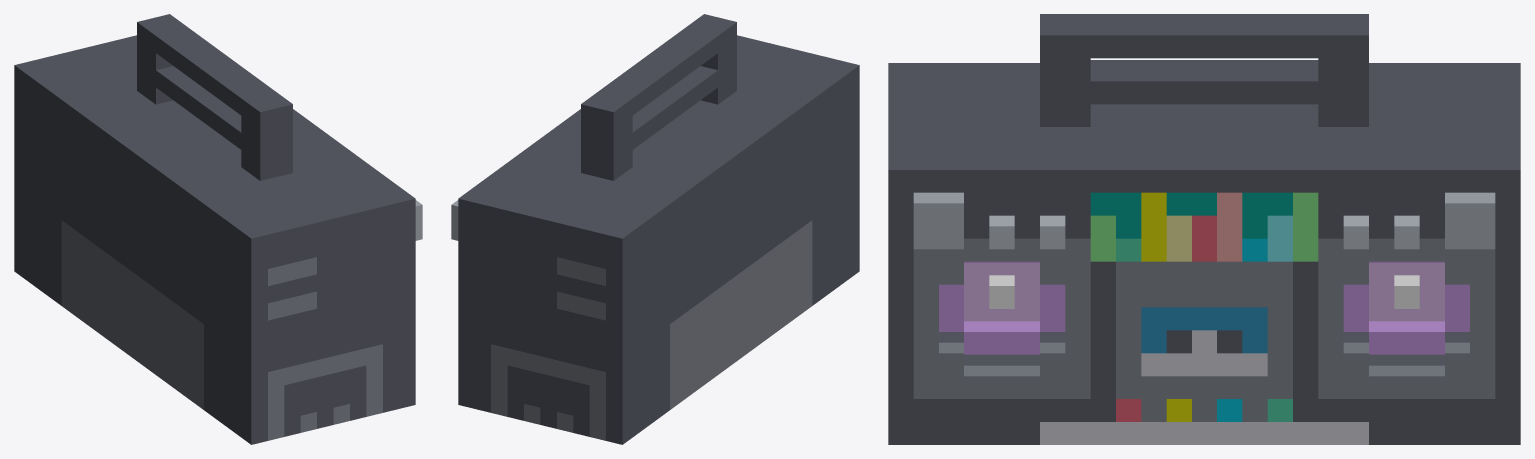
3 views of the same model, side by side, from view 1: azimuth 30°, elevation 25°; view 2: azimuth 150°, elevation 25°; view 3: azimuth 270°, elevation 25° (orthographic). The views are drawn at different scales.
Bounding box in the file's own units: 0.44 × 0.64 × 1.
